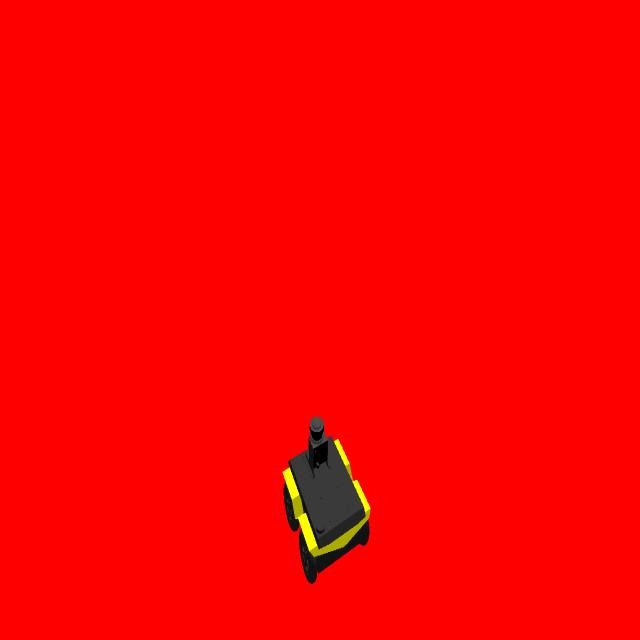jackal: (283, 414, 370, 586)
